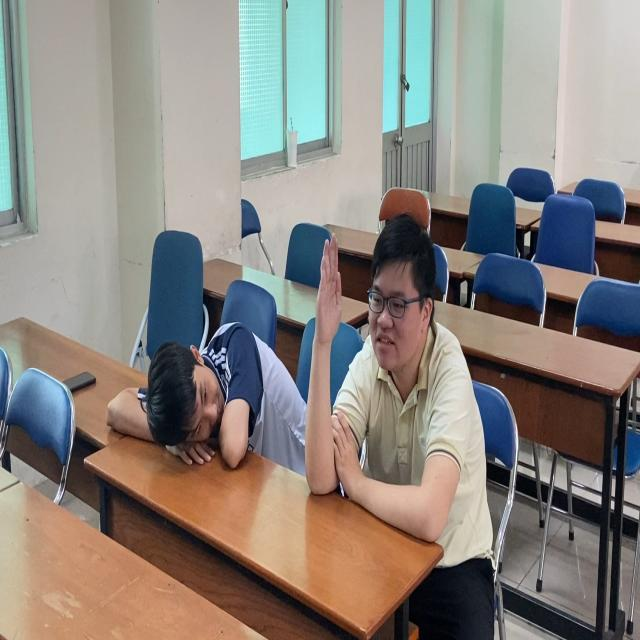raise_hand: (311, 212, 470, 555)
